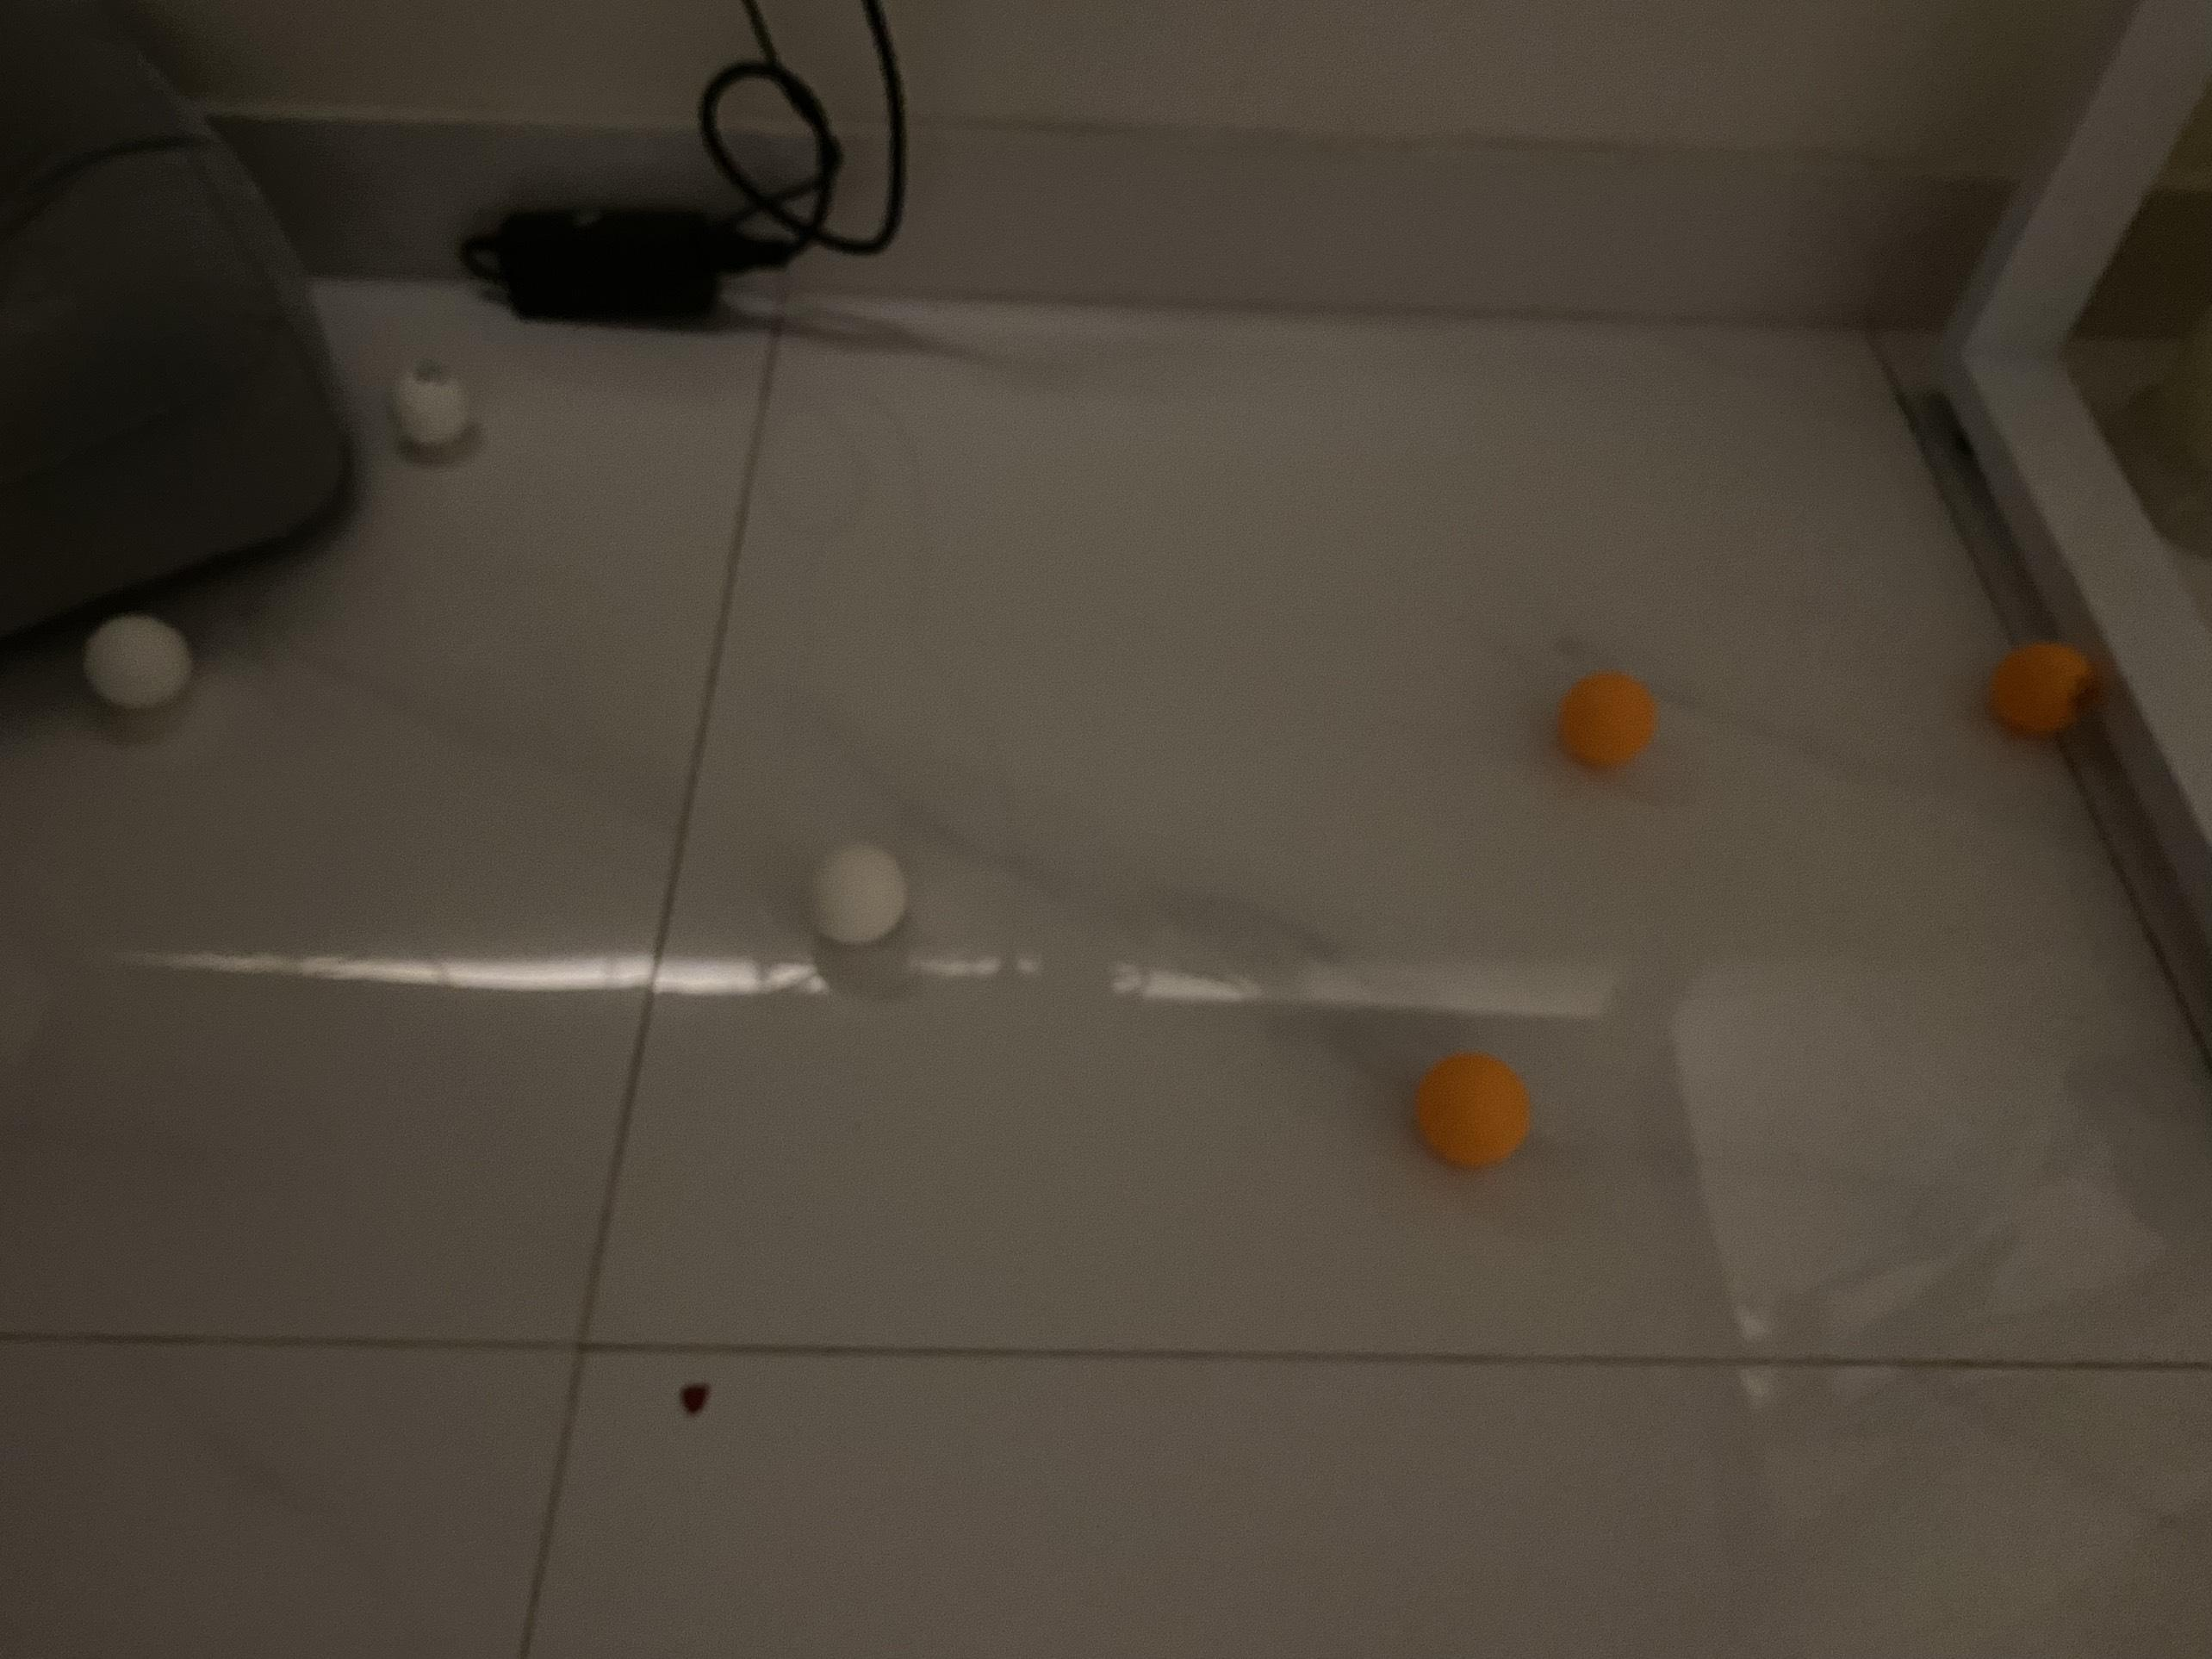oball: (1413, 1051, 1536, 1173), (1543, 666, 1660, 782), (1986, 640, 2102, 739)
